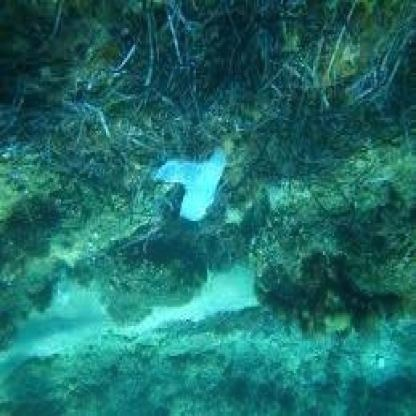pbag: (146, 144, 233, 225)
